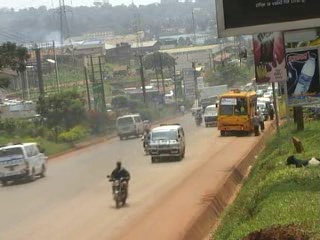Motorcycle: (104, 159, 132, 210), (141, 123, 152, 157), (193, 106, 203, 128)
